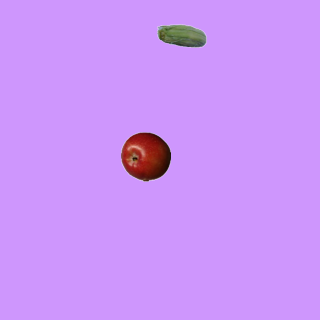Apple Braeburn: (120, 131, 170, 181)
Corn Husk: (156, 12, 206, 62)
